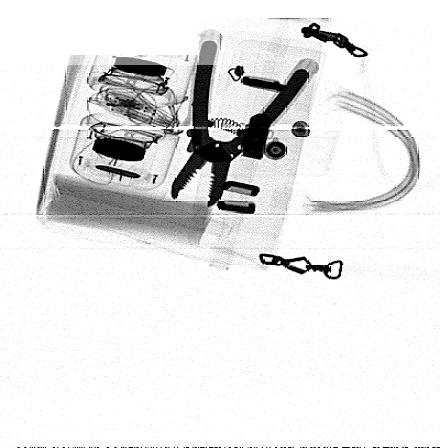Pliers: (170, 39, 312, 209)
